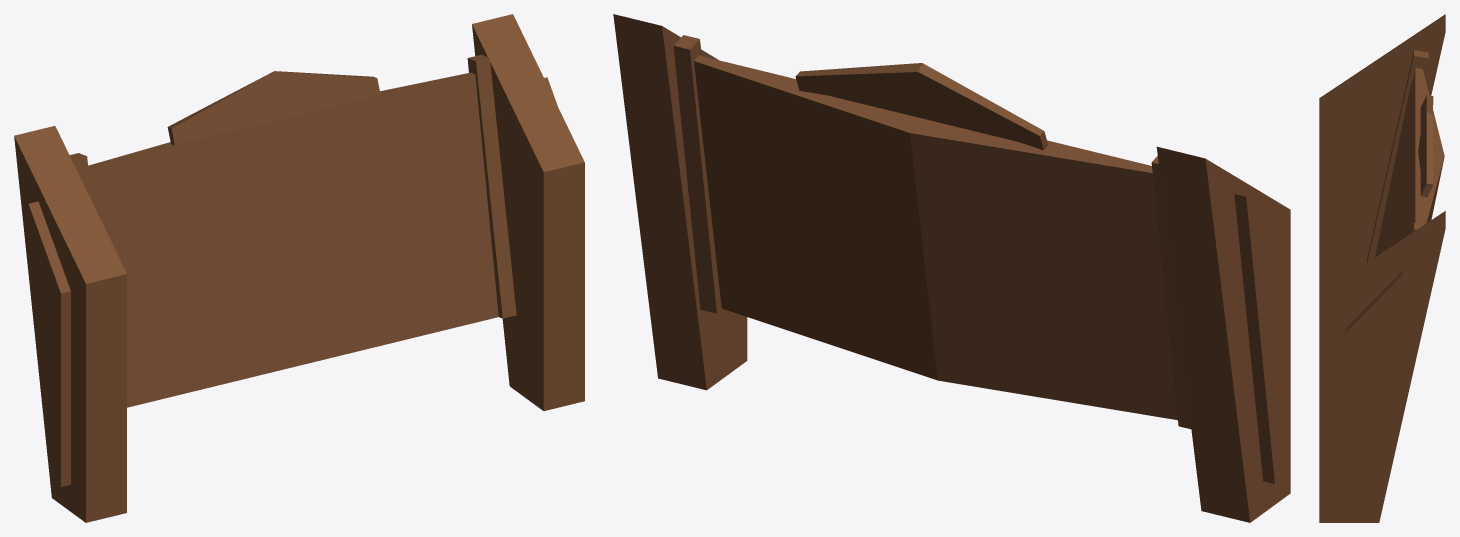
Rendered from Tower_Station_Sign_Art.fbx.
The picture shows the model from 3 angles, left to right: view 1: azimuth 30°, elevation 25°; view 2: azimuth 150°, elevation 25°; view 3: azimuth 270°, elevation 25°; orthographic projection. The views are drawn at different scales.
Visible parts, largest first — view 1: Tower_Station_Sign_Art; view 2: Tower_Station_Sign_Art; view 3: Tower_Station_Sign_Art.
Part boxes in pixels (box(x1,y1,x2,y2)): Tower_Station_Sign_Art: box(14, 14, 584, 522); Tower_Station_Sign_Art: box(613, 14, 1290, 522); Tower_Station_Sign_Art: box(1319, 14, 1445, 522).
Bounding box in the file's own units: 214 × 136 × 51.21.
